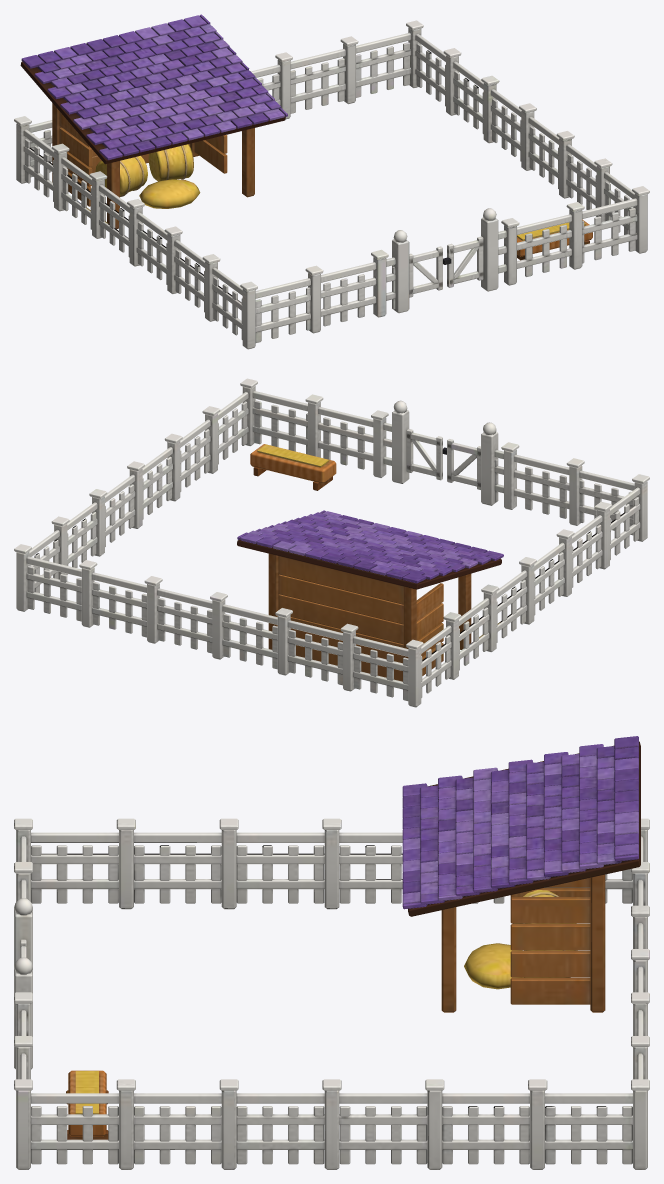
The model's file is alpaca_ranch.glb.
The picture shows the model from 3 angles, top to bottom: view 1: azimuth 30°, elevation 25°; view 2: azimuth 150°, elevation 25°; view 3: azimuth 270°, elevation 25°; orthographic projection. The views are drawn at different scales.
Visible parts, largest first — view 1: alpaca_ranch; view 2: alpaca_ranch; view 3: alpaca_ranch.
Part boxes in pixels (x1=…): alpaca_ranch: x1=14, y1=14, x2=649, y2=349; alpaca_ranch: x1=14, y1=378, x2=649, y2=707; alpaca_ranch: x1=14, y1=736, x2=649, y2=1169.
Bounding box in the file's own units: 2.99 × 0.9346 × 2.99.
1 material, 1 textured.
